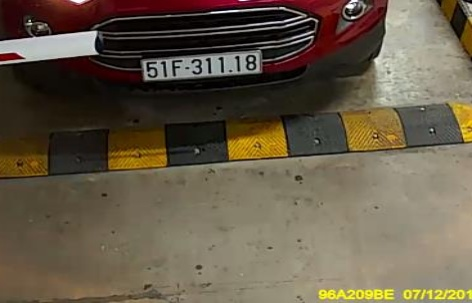plate: (144, 45, 271, 86)
